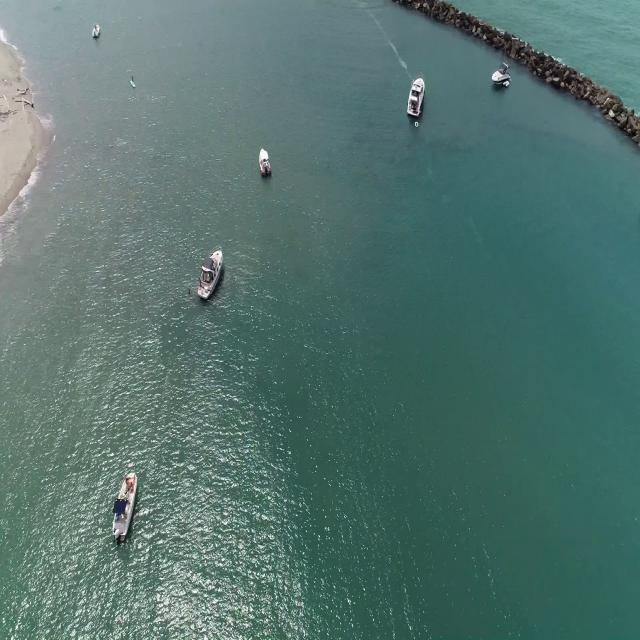boat: (112, 465, 140, 543), (197, 246, 224, 299), (406, 66, 428, 114), (255, 147, 276, 181), (490, 57, 511, 91), (91, 21, 101, 39)
life_buoy: (412, 118, 420, 130)
person: (131, 70, 137, 83)
surfboard: (129, 81, 138, 92)
